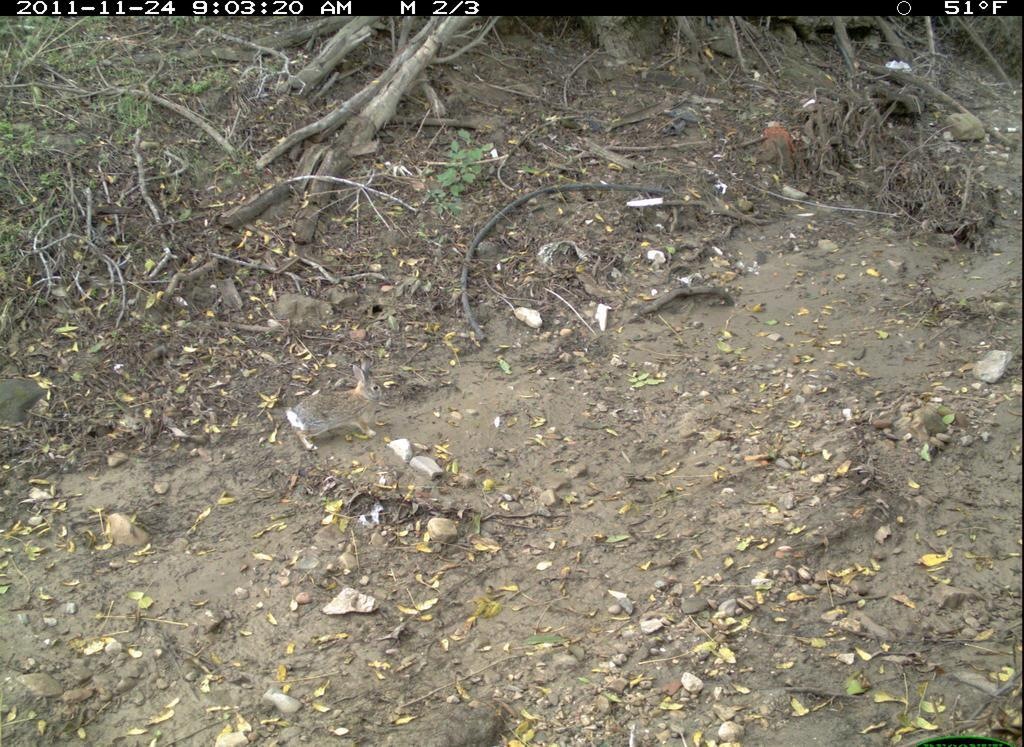rabbit: (280, 351, 392, 455)
